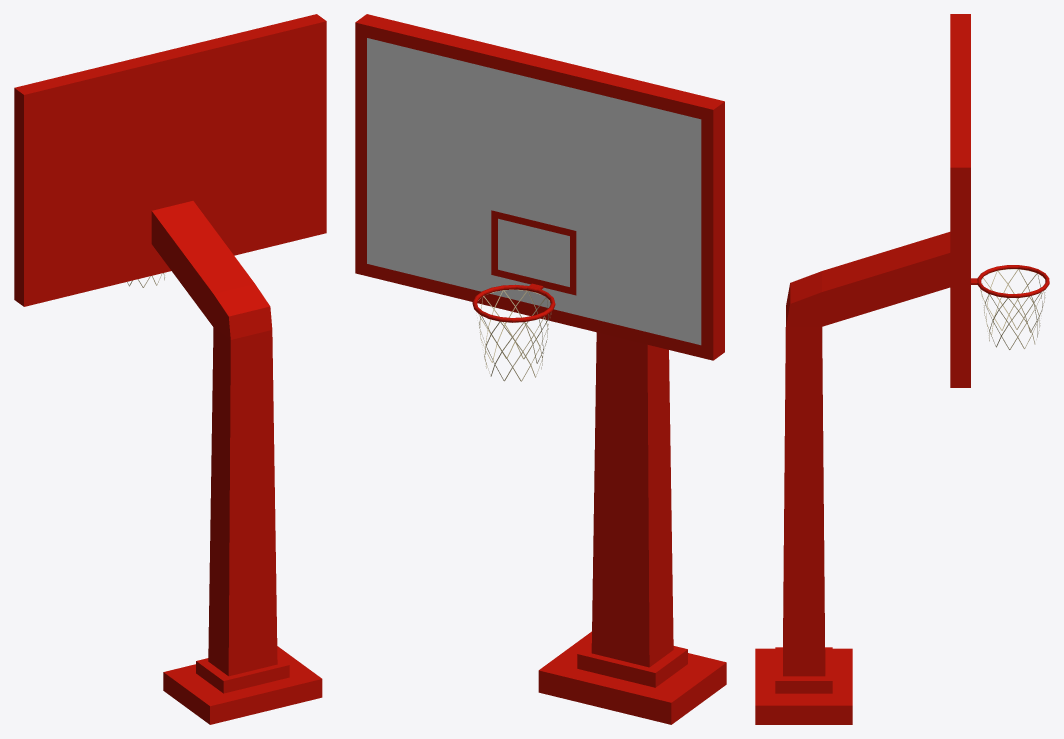
File: basic_hoop.fbx
3 views of the same model, side by side, from view 1: azimuth 30°, elevation 25°; view 2: azimuth 150°, elevation 25°; view 3: azimuth 270°, elevation 25° (orthographic). The views are drawn at different scales.
Visible parts, largest first — view 1: Cube; view 2: Cube, Torus.001, Torus; view 3: Cube, Torus.001, Torus.
Boxes of the visible parts, box(x1,y1,x2,y2) form: Cube: box(14, 14, 326, 724); Cube: box(355, 14, 726, 724); Torus.001: box(478, 289, 551, 381); Torus: box(472, 283, 555, 322); Cube: box(755, 14, 970, 724); Torus.001: box(980, 269, 1045, 349); Torus: box(971, 265, 1049, 297).
Bounding box in the file's own units: 448 × 826 × 363.
